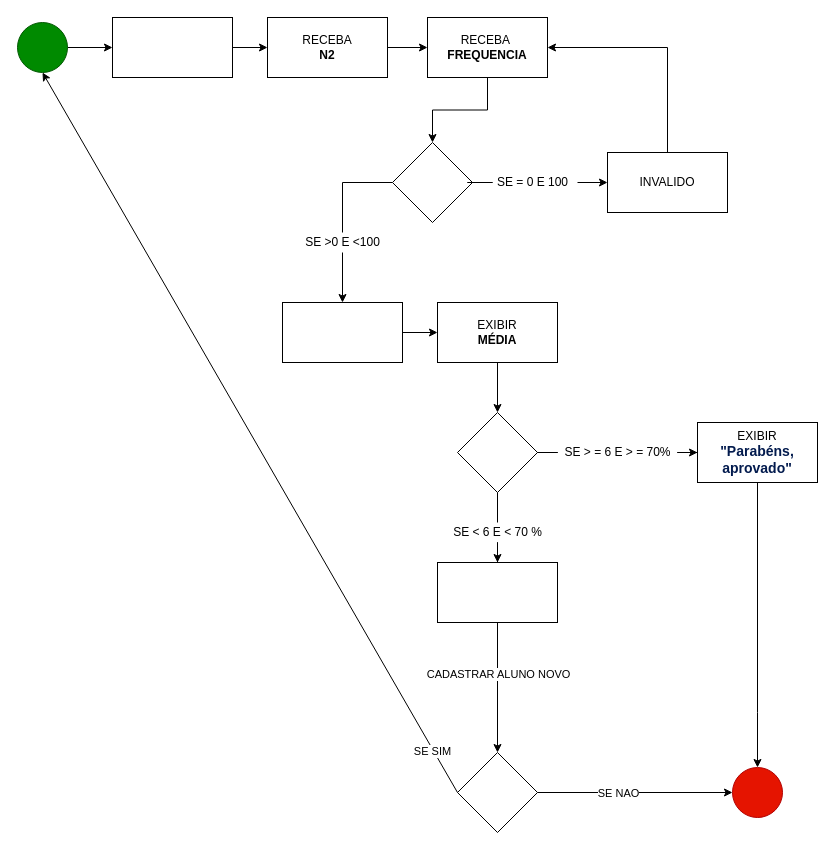
Image size: 835x850. Some labels were removed from this diagram. Each missing label, with the centre of its shape:
CALCULAR MÉDIA: (N1 + N2) / FREQUENCIA: point 342,332
EXIBIR "Infelizmente, reprovado": point 497,592
RECEBA N1: point 172,47
